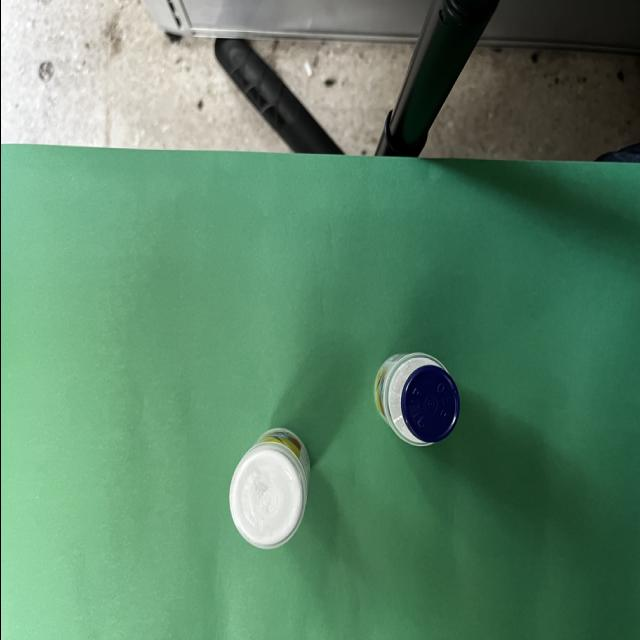Vials: (228, 427, 310, 549), (374, 352, 458, 446)
